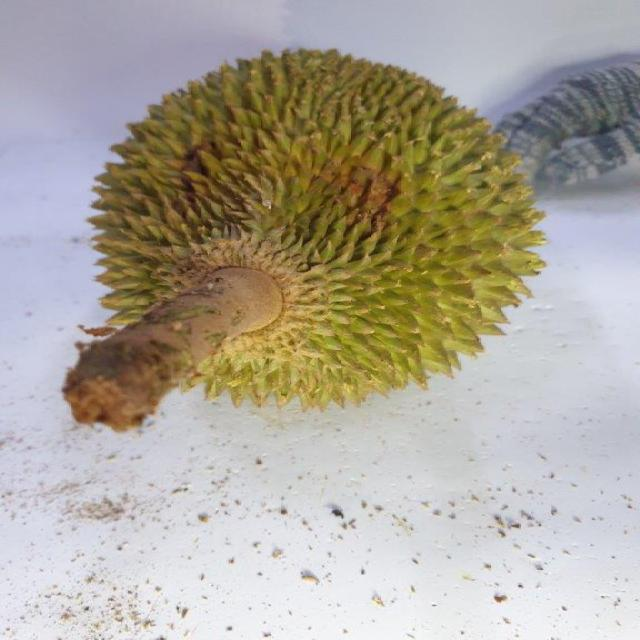defective: (80, 43, 548, 407)
